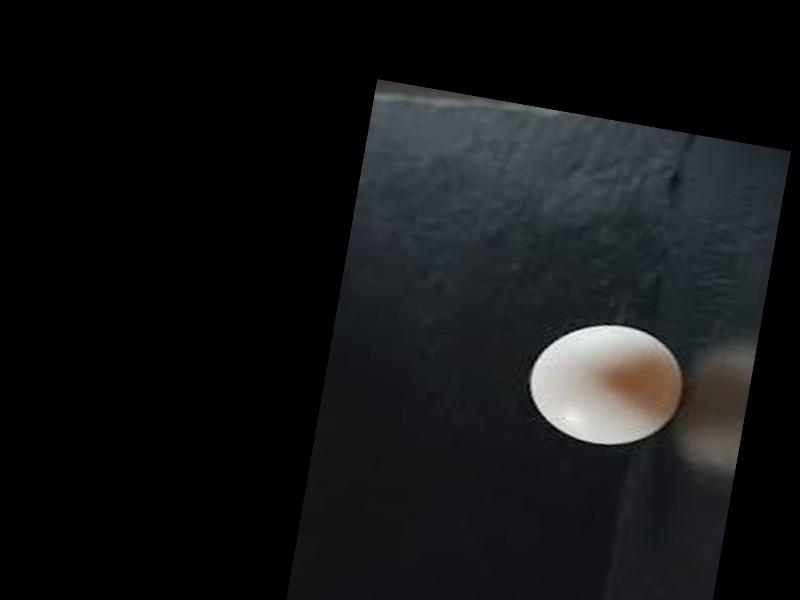Eggs: (517, 311, 690, 455)
